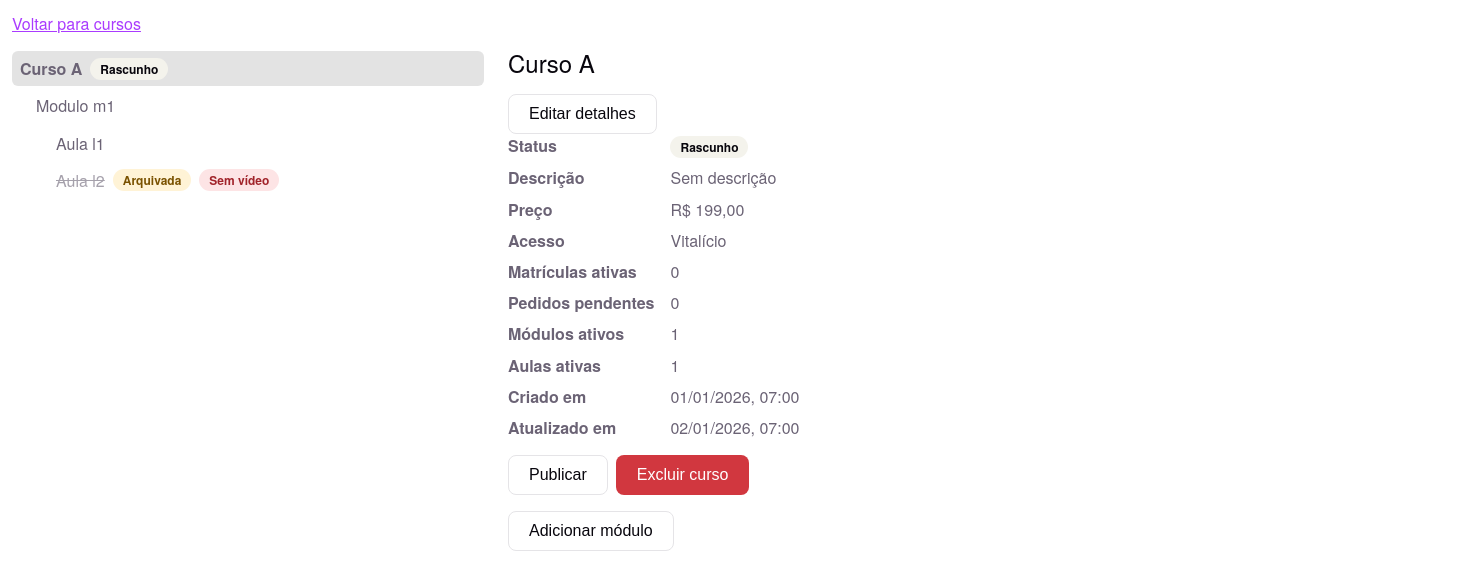
Test: lesson video action › rejects blank input
The width and height of the screenshot is (1464, 568).
Click the list item "Aula l1": coordinates (80, 143) x1=56 y1=132 x2=105 y2=155
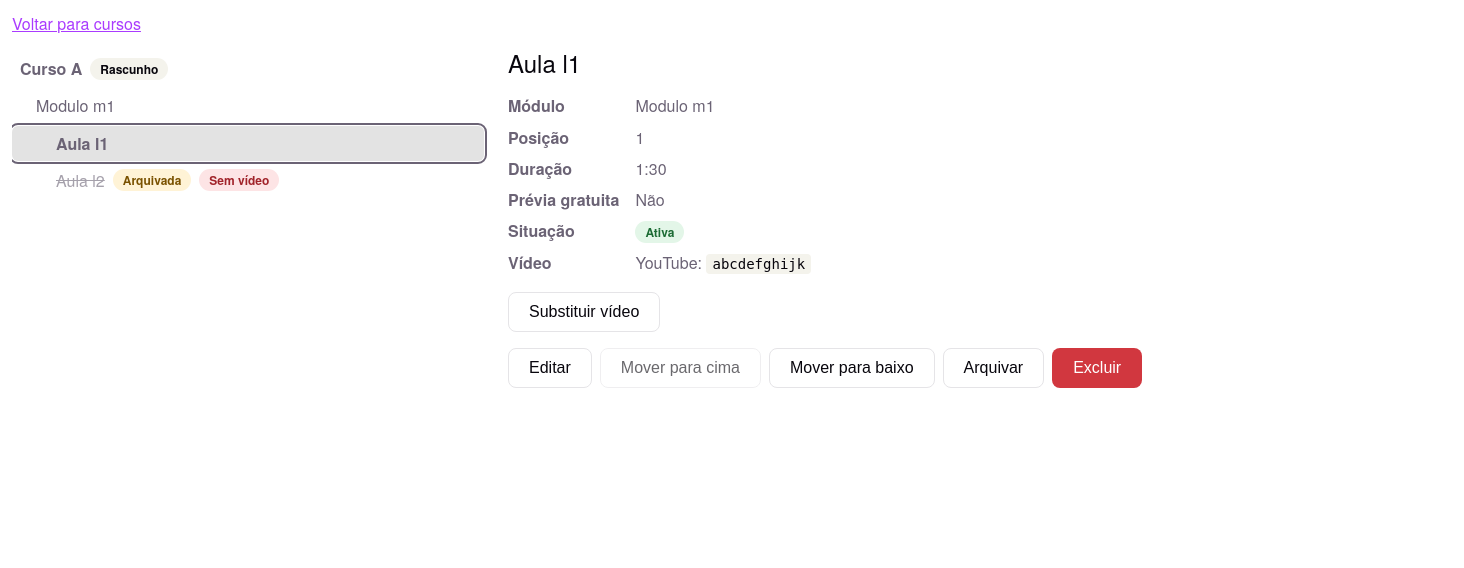
Click the button "Substituir vídeo": coordinates (584, 312) x1=508 y1=292 x2=660 y2=332
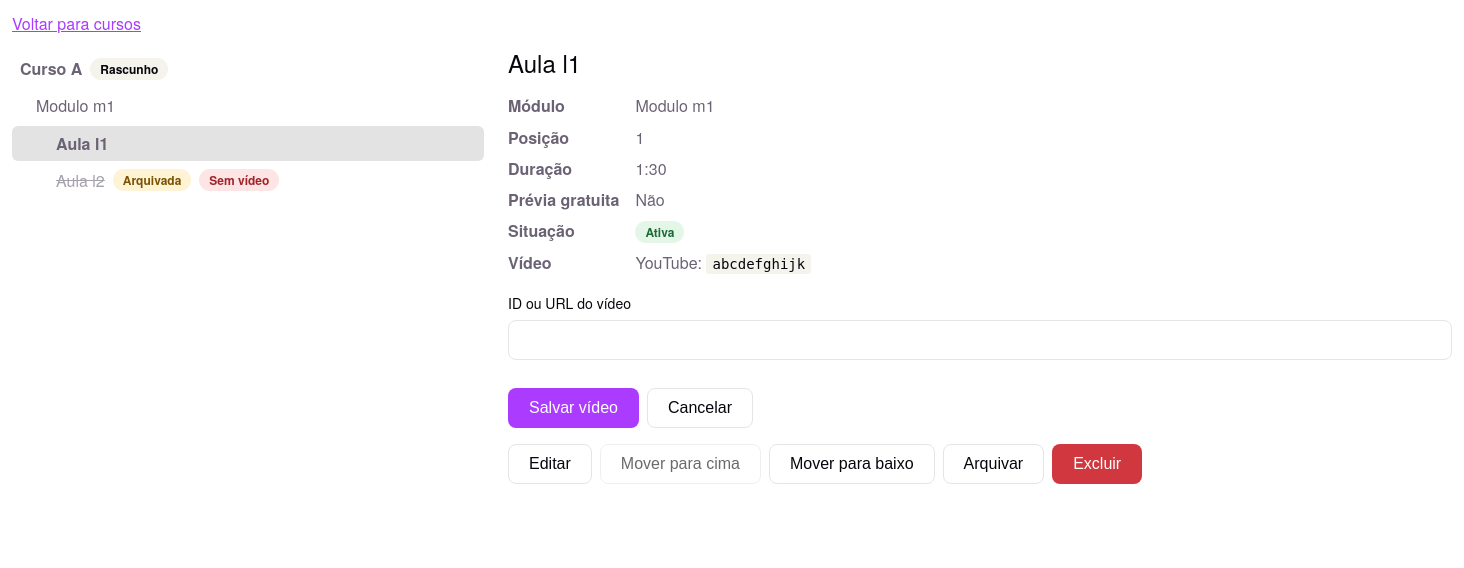
Click the button "Salvar vídeo": coordinates (573, 408) x1=508 y1=388 x2=639 y2=428
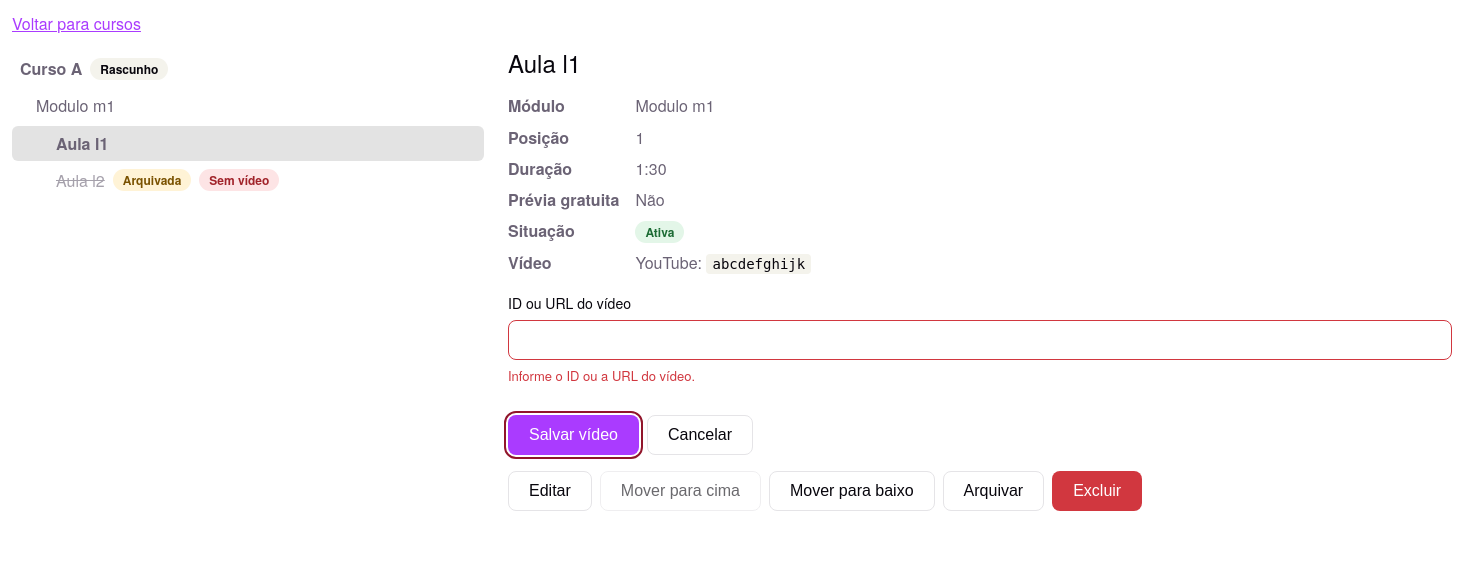
Expected: the text "Informe o ID ou a URL do vídeo." is shown, x1=508 y1=366 x2=695 y2=384
